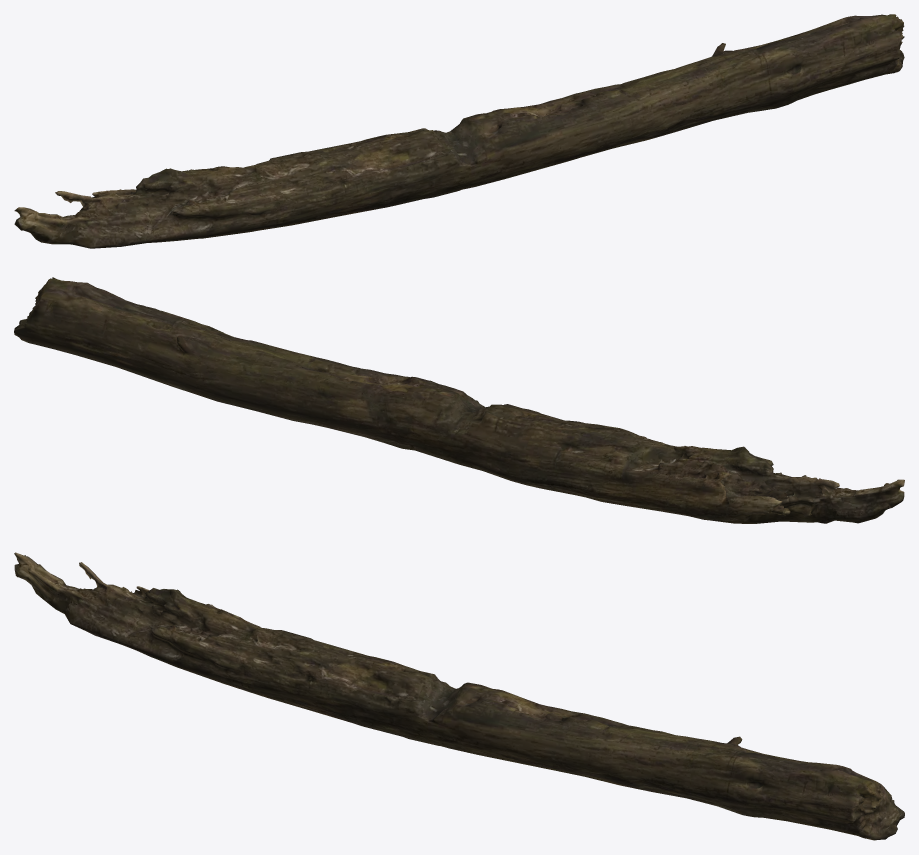
File: tronco_caido.glb
The picture shows the model from 3 angles, top to bottom: view 1: azimuth 30°, elevation 25°; view 2: azimuth 150°, elevation 25°; view 3: azimuth 330°, elevation 25°; orthographic projection.
Visible parts, largest first — view 1: dead_tree_trunk; view 2: dead_tree_trunk; view 3: dead_tree_trunk.
Part boxes in pixels (<box>): dead_tree_trunk: <box>14,14,904,248</box>; dead_tree_trunk: <box>14,277,904,523</box>; dead_tree_trunk: <box>14,552,904,840</box>.
Size of the model in its own units: 3.05 by 0.2898 by 0.2766.
Materials: 1 (1 with a texture image).
